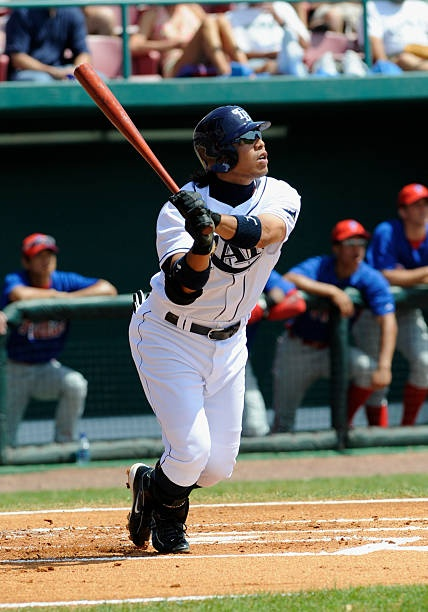bita: (76, 70, 218, 242)
